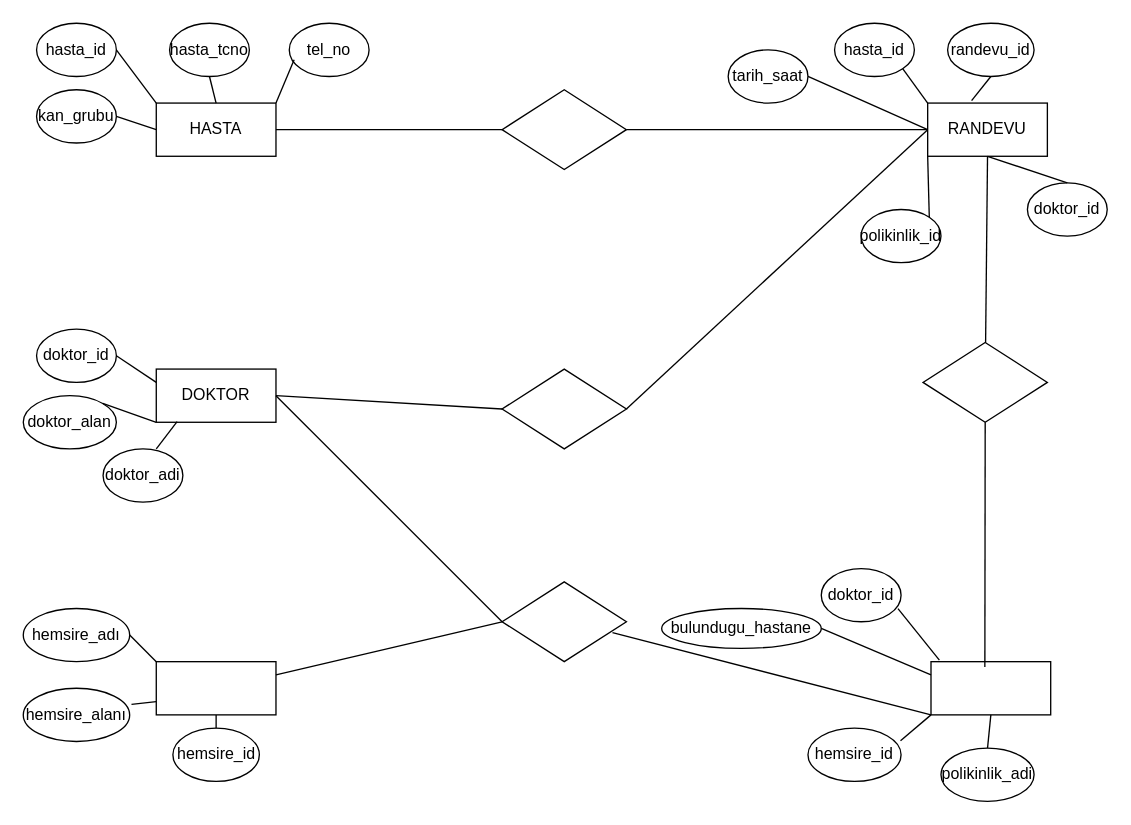
Some shapes in this 1131 by 825 pixel diagram are drawn without their labels. The centre of each missing label's shape, as x and y in pixels:
"buluşma dönemi,zamanı" goes at point (563, 129).
"danışman" goes at point (563, 408).
"HEMŞİRE" goes at point (215, 687).
"ilgilenecekler" goes at point (563, 621).
"POLİKİNLİK" goes at point (990, 687).
"yeri" goes at point (984, 381).
